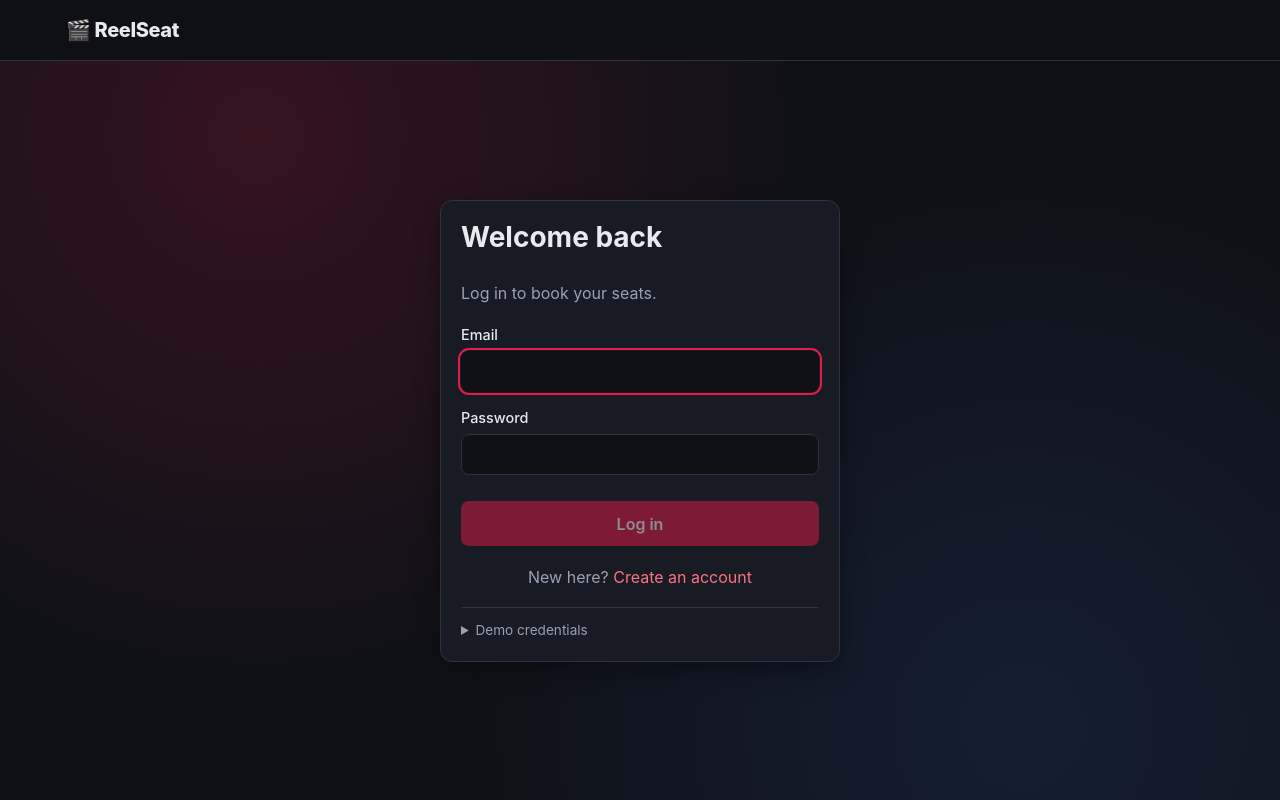
Test case: role-based routing › returns the user to the page they originally requested after login
Expected: the heading "Welcome back" is shown, [461,220,662,254]
Type "user@reelseat.com" into the field labelled "Email". click: (640, 372)
box: [461,351,819,392]
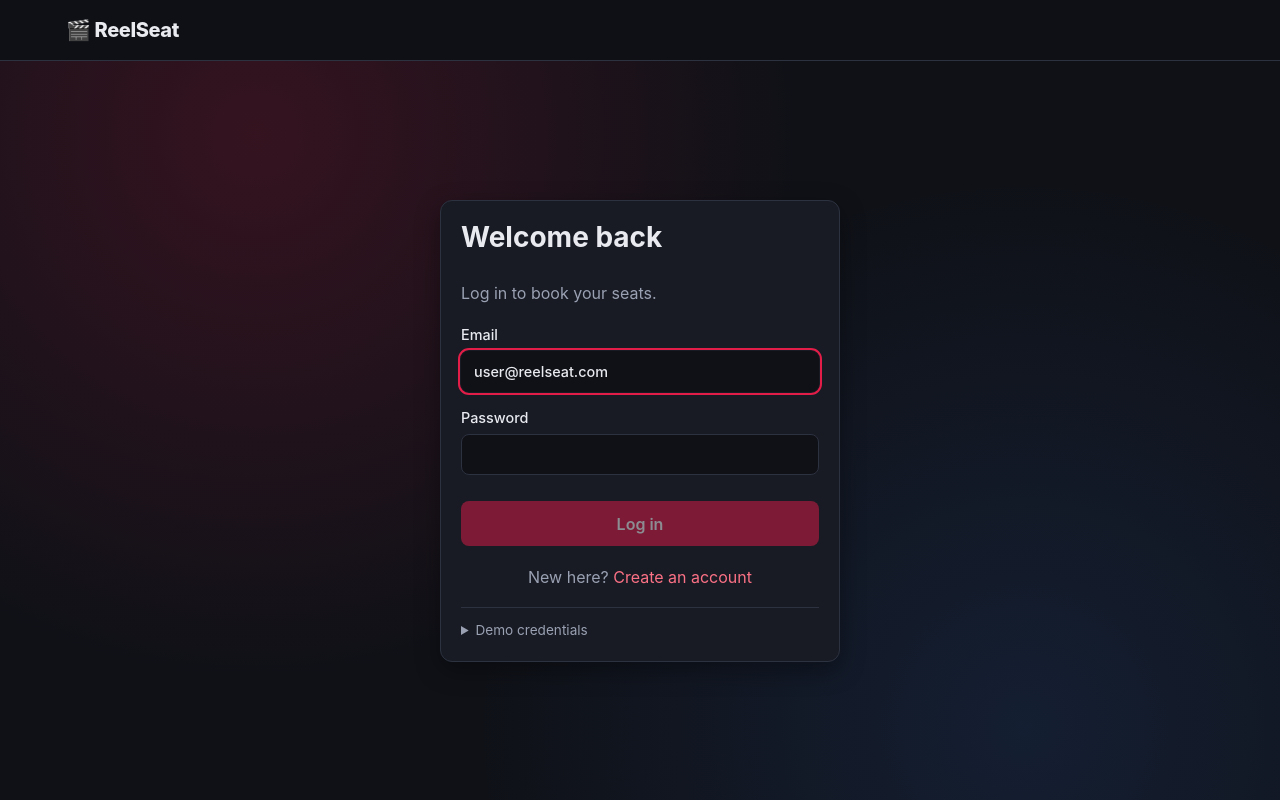
Type "User@1234" into the password field labelled "Password". click: (640, 454)
box: [461,434,819,475]
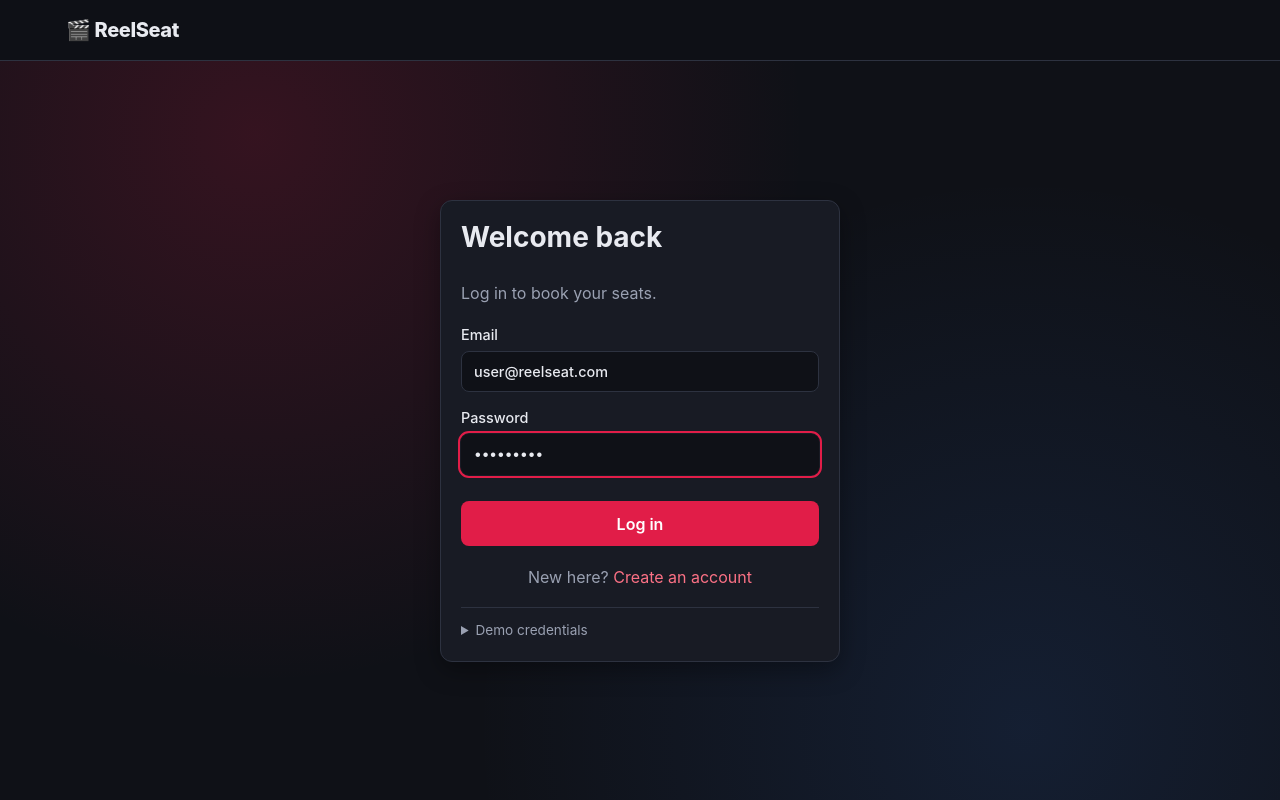
Click the button "Log in". click: (640, 524)
box: [461,501,819,546]
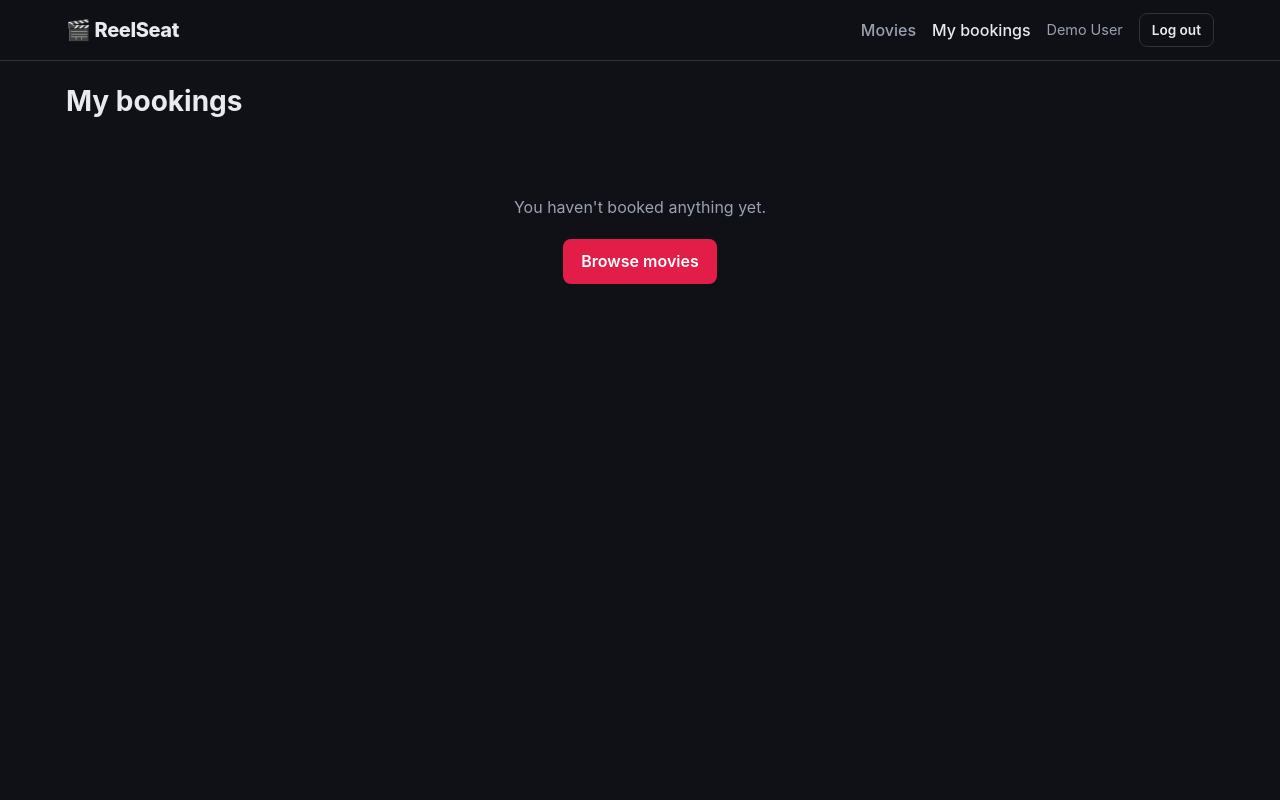
Now the heading "My bookings" is shown, box [66,85,242,119]
